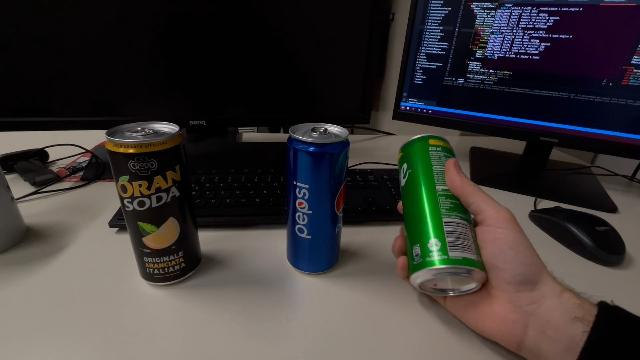OranSoda: (104, 119, 204, 287)
Pepsi: (284, 120, 352, 276)
Sprite: (394, 130, 490, 298)
